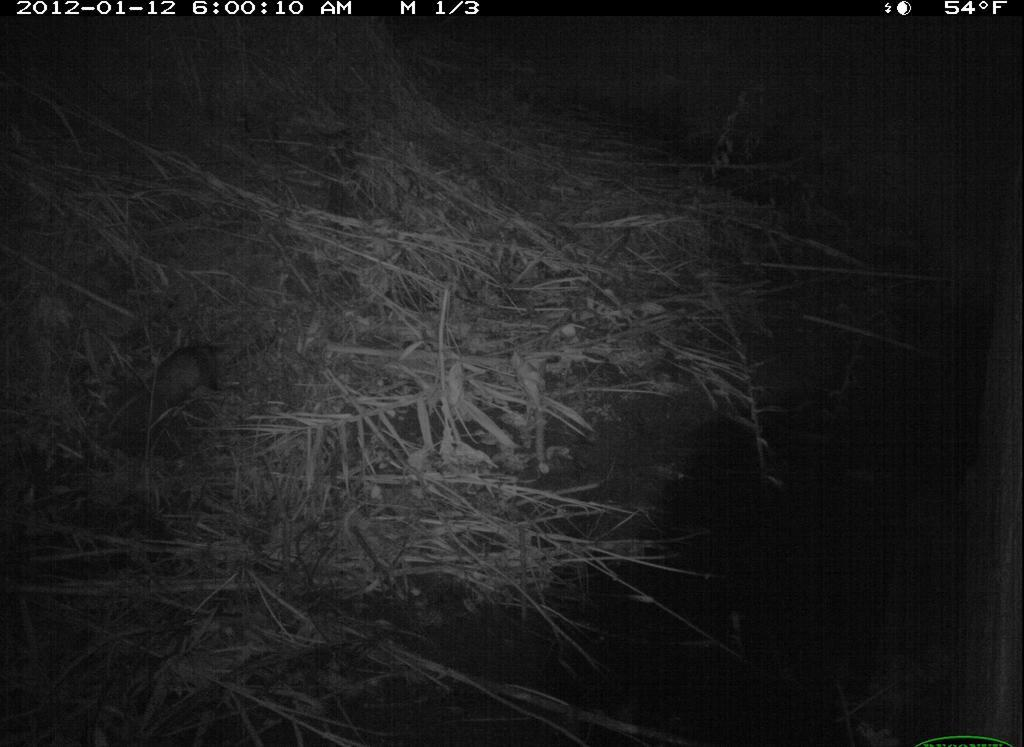opossum: (138, 329, 252, 425)
